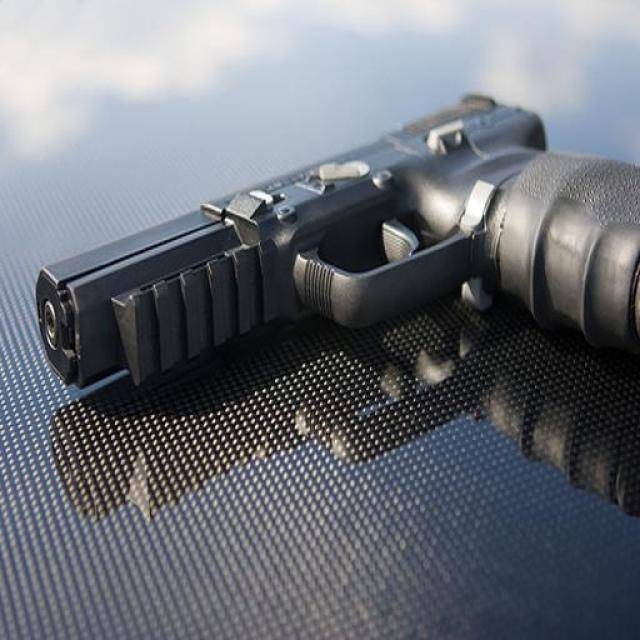pistol: (36, 82, 636, 466)
